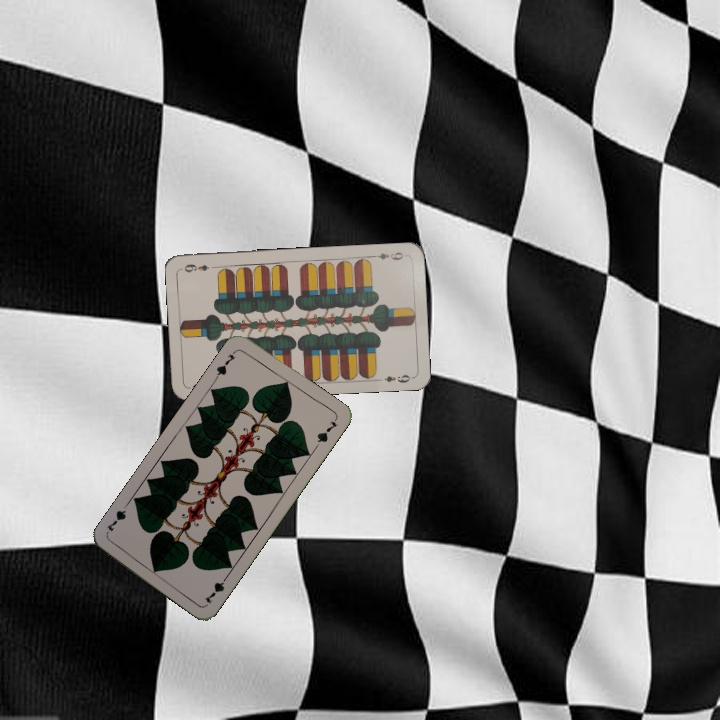E9: (368, 248, 406, 263)
G7: (200, 571, 231, 606), (211, 346, 239, 382)
